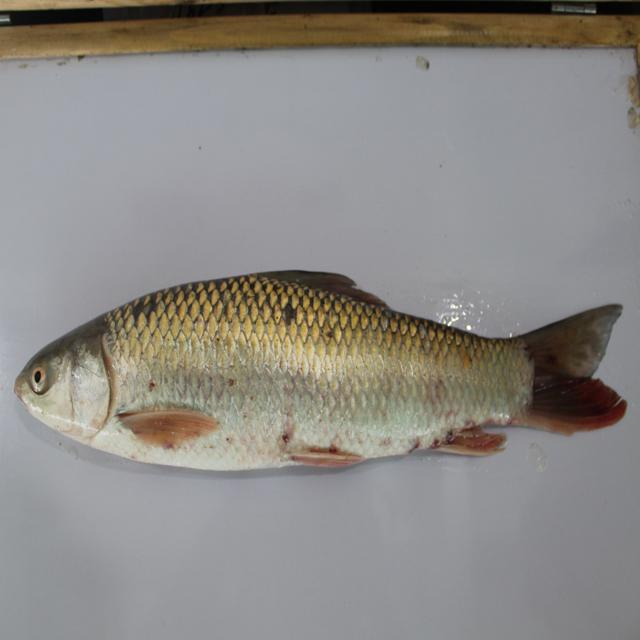Mori: (17, 263, 640, 476)
